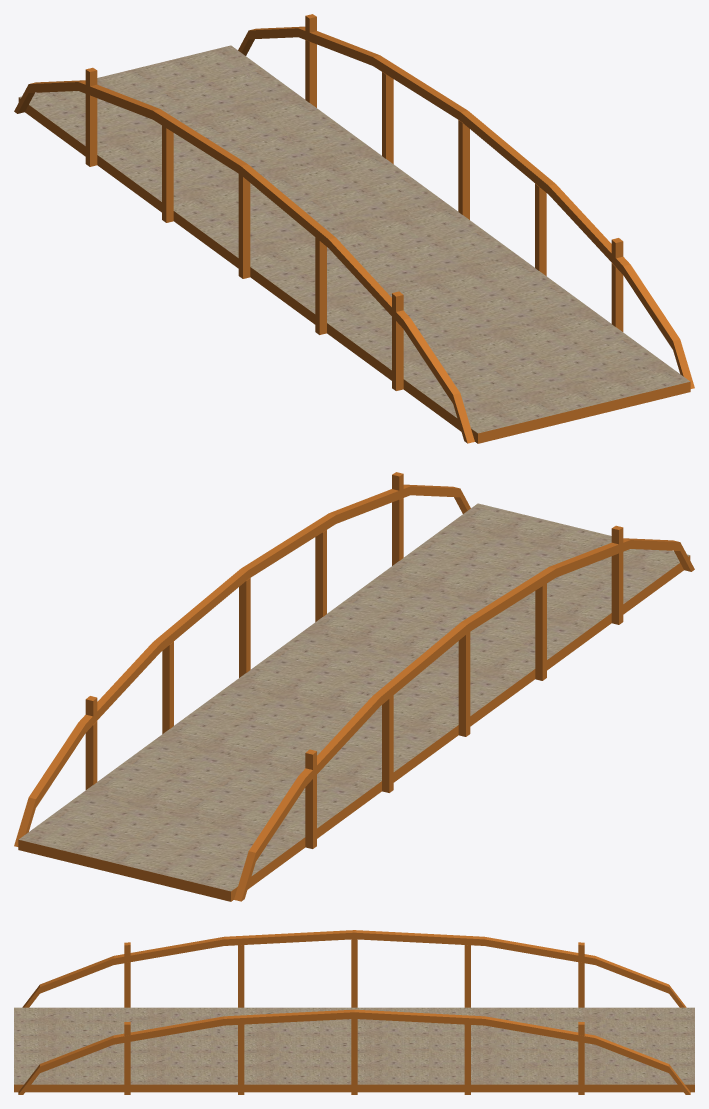
Rendered from bridge.obj.
3 renders of one model, top to bottom at view 1: azimuth 30°, elevation 25°; view 2: azimuth 150°, elevation 25°; view 3: azimuth 270°, elevation 25°, orthographic. The views are drawn at different scales.
Parts seen in each view (by area): view 1: No_Name; view 2: No_Name; view 3: No_Name.
Part boxes in pixels (x1=…): No_Name: x1=14, y1=14, x2=694, y2=443; No_Name: x1=14, y1=472, x2=694, y2=901; No_Name: x1=14, y1=930, x2=694, y2=1094.
Bounding box in the file's own units: 8 × 3.75 × 28.
Materials: 2 (2 with a texture image).
